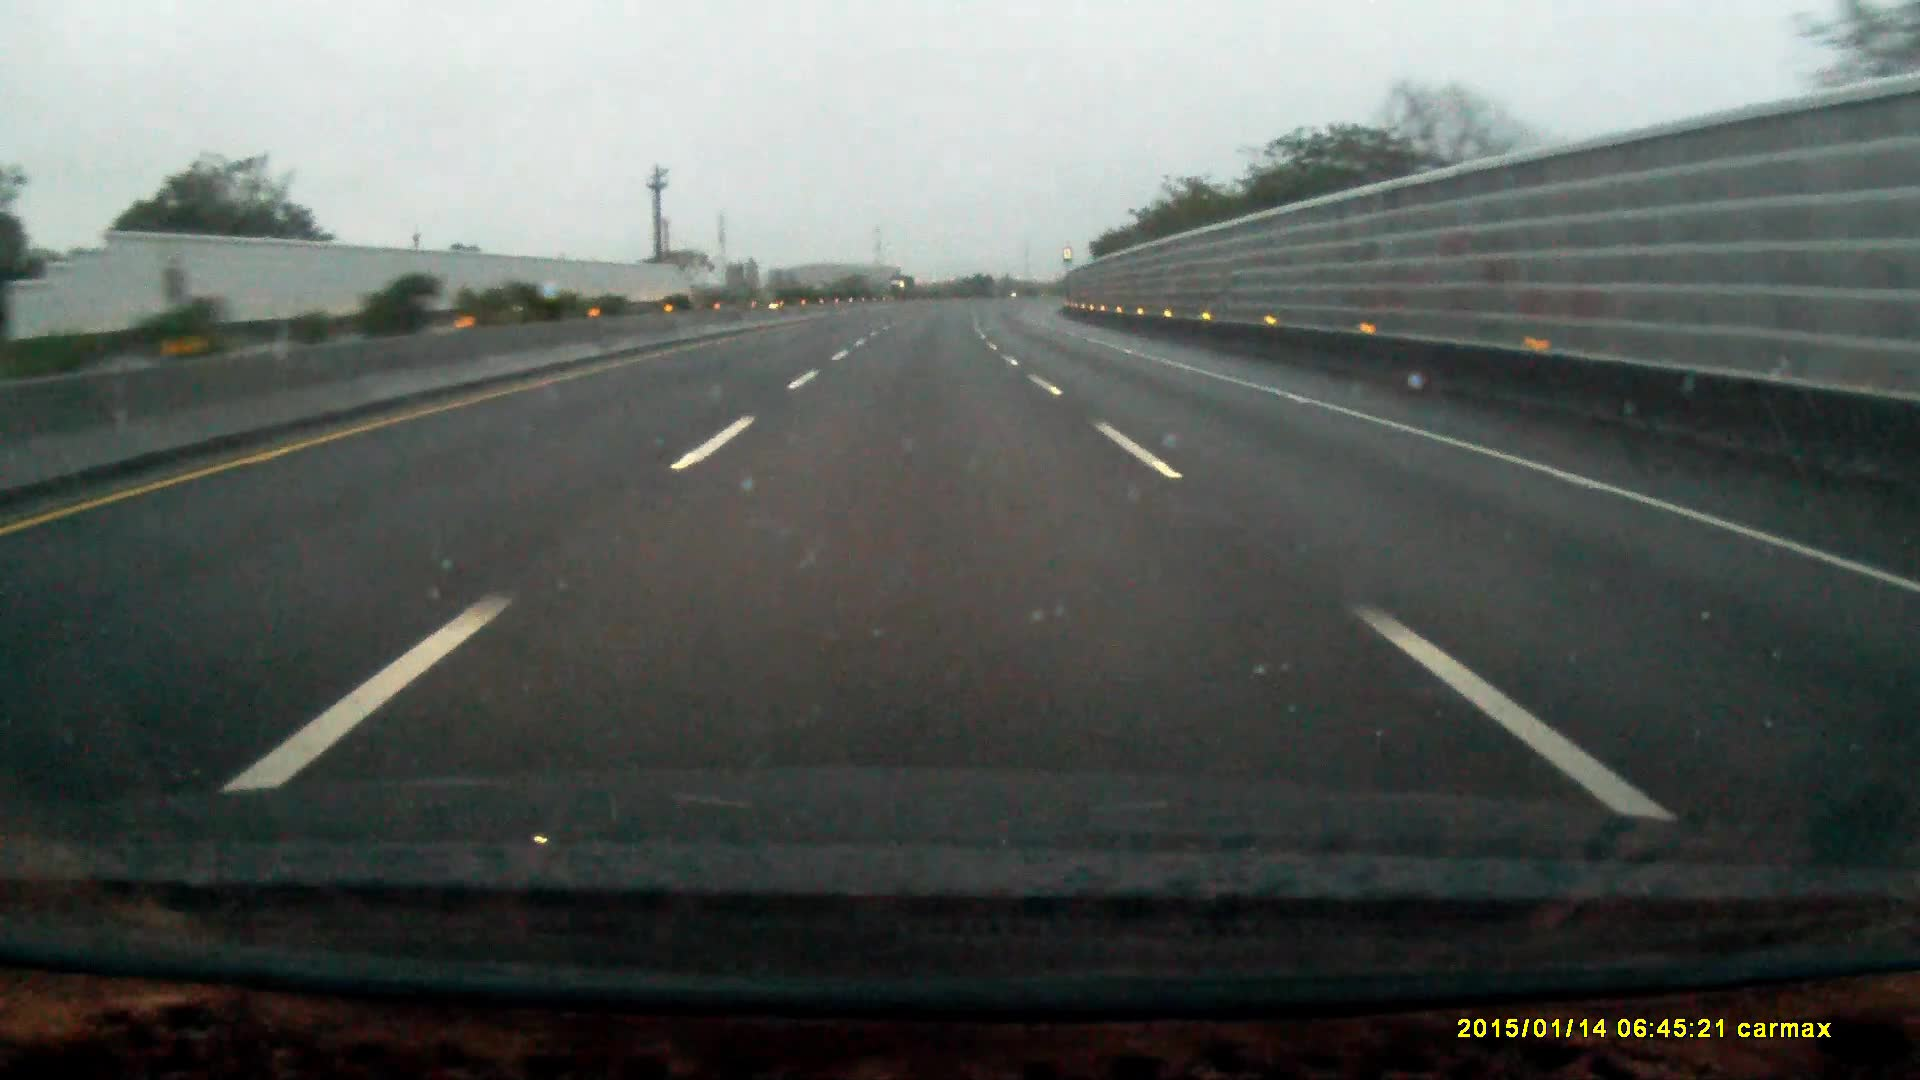vehicle: (890, 276, 916, 298)
